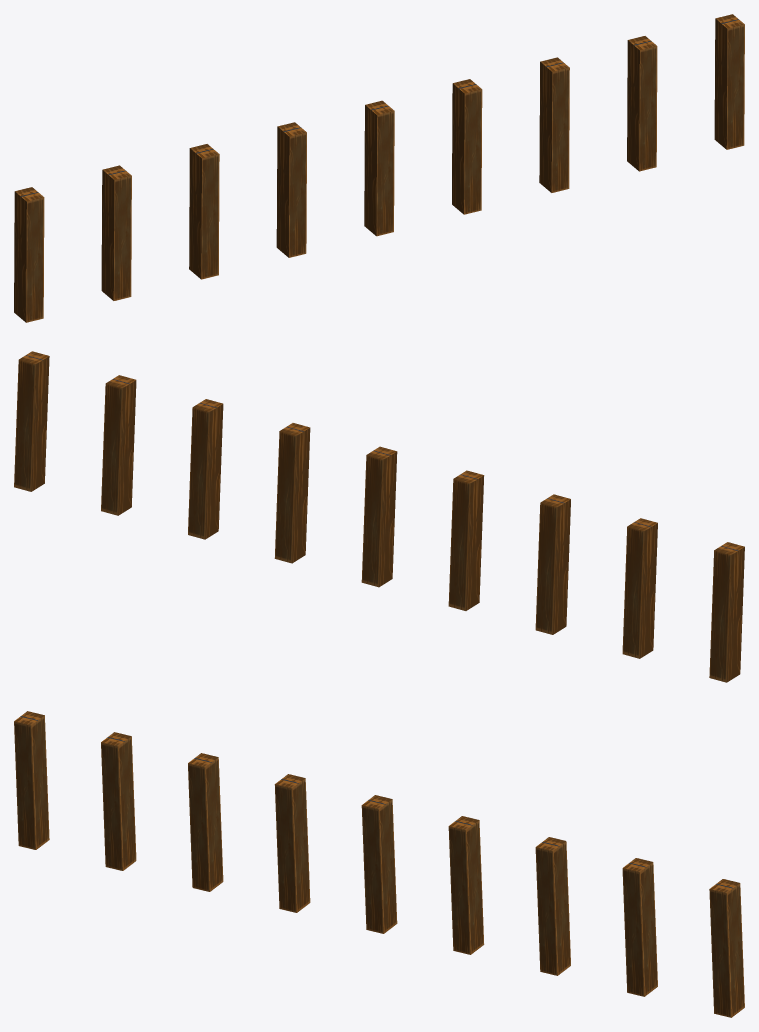
3 renders of one model, top to bottom at view 1: azimuth 30°, elevation 25°; view 2: azimuth 150°, elevation 25°; view 3: azimuth 330°, elevation 25°, orthographic. The views are drawn at different scales.
Visible parts, largest first — view 1: Cube.2016; view 2: Cube.2016; view 3: Cube.2016.
Boxes of the visible parts, left/top/right/bottom form: Cube.2016: left=14, top=14, right=744, bottom=322; Cube.2016: left=14, top=351, right=744, bottom=682; Cube.2016: left=14, top=711, right=744, bottom=1017.
Bounding box in the file's own units: 581 × 106 × 35.64.
1 material, 1 textured.
